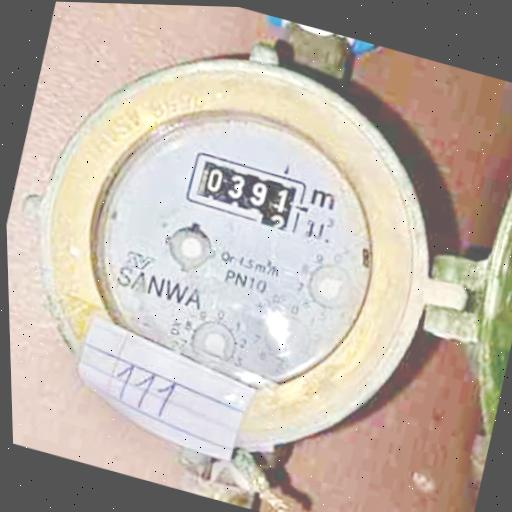0: (196, 160, 231, 202)
1: (259, 181, 298, 233)
3: (219, 167, 254, 210)
9: (242, 175, 274, 216)
border_water_meter_number: (183, 149, 309, 235)
